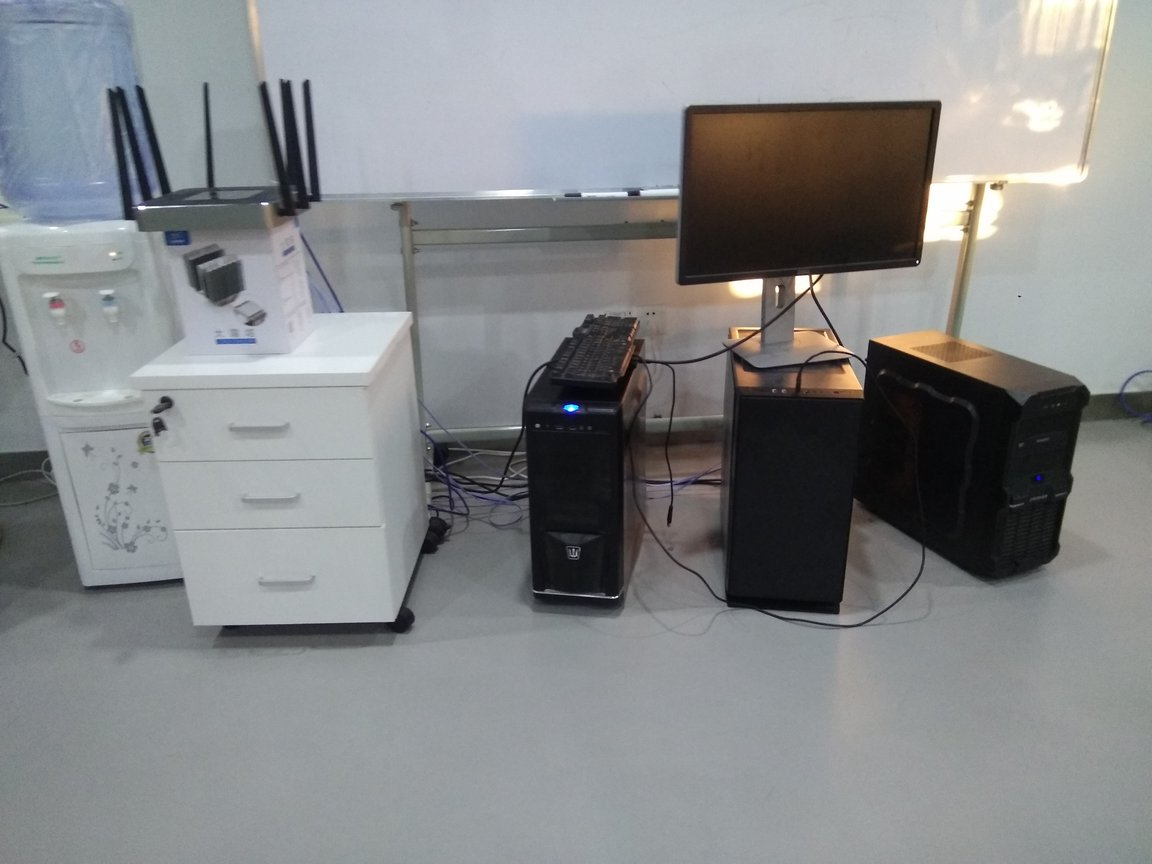computer: (854, 330, 1077, 592), (517, 331, 668, 625), (717, 313, 859, 624)
drawer chest: (136, 300, 437, 643)
monitor: (676, 96, 934, 378)
scuttlebutt: (1, 1, 158, 220)
water dispenser: (4, 217, 202, 601)
